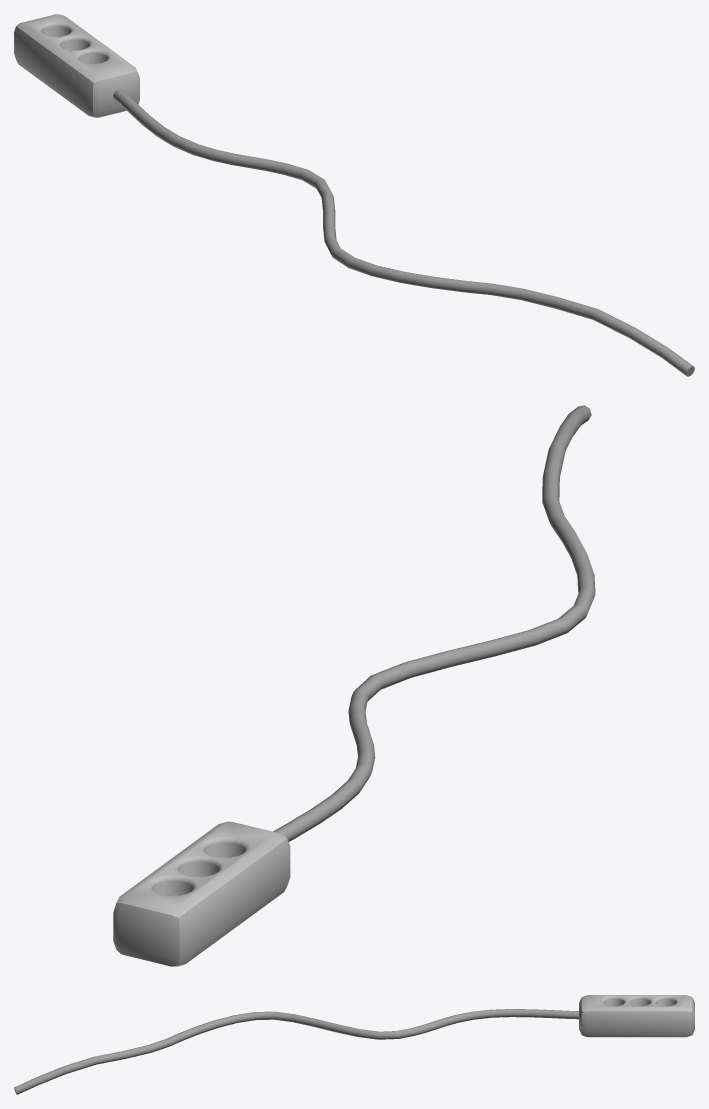
The model's file is Socket02.fbx.
The picture shows the model from 3 angles, top to bottom: view 1: azimuth 30°, elevation 25°; view 2: azimuth 150°, elevation 25°; view 3: azimuth 270°, elevation 25°; orthographic projection. The views are drawn at different scales.
Parts seen in each view (by area): view 1: Socket02; view 2: Socket02; view 3: Socket02.
Boxes of the visible parts, <box> form: Socket02: <box>14,14,694,376</box>; Socket02: <box>113,405,595,966</box>; Socket02: <box>14,995,694,1094</box>.
Bounding box in the file's own units: 0.3809 × 1.58 × 0.0902.
